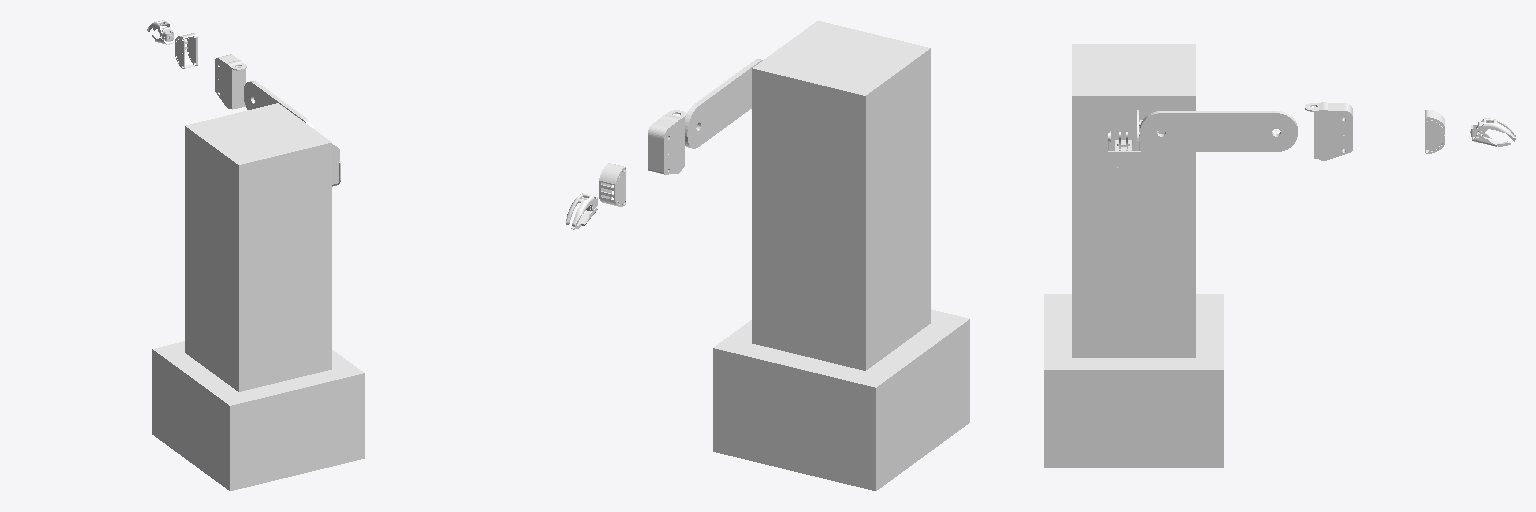
robot.urdf — robot:
<?xml version="1.0" ?>
<!-- =================================================================================== -->
<!-- |    This document was autogenerated by xacro from robot.urdf.xacro               | -->
<!-- |    EDITING THIS FILE BY HAND IS NOT RECOMMENDED                                 | -->
<!-- =================================================================================== -->
<robot name="robot" xmlns:xacro="http://www.ros.org/wiki/xacro">
  <!--<xacro:property name="lower_arm_short_length" value="0.345" /> -->
  <!--X Y-->
  <!-- theirs ours-->
  <!--Z X-->
  <!--Y Z-->
  <link name="base_link">
    <visual>
      <origin rpy="0 0 0" xyz="0 0 0.189085"/>
      <geometry>
        <box size="0.62265 0.62265 0.37817"/>
      </geometry>
      <material name="white">
        <color rgba="1 1 1 1"/>
      </material>
    </visual>
    <collision>
      <origin rpy="0 0 0" xyz="0 0 0.189085"/>
      <geometry>
        <box size="0.62265 0.62265 0.37817"/>
      </geometry>
    </collision>
    <inertial>
      <mass value="0.22"/>
      <inertia ixx="0.00972960214233" ixy="0.0" ixz="0.0" iyy="0.014215410825" iyz="0.0" izz="0.00972960214233"/>
    </inertial>
  </link>
  <link name="body_link">
    <visual>
      <origin rpy="0 0 0" xyz="0 0 0.50159"/>
      <geometry>
        <box size="0.4324 0.4324 1.00318"/>
      </geometry>
      <material name="white">
        <color rgba="1 1 1 1"/>
      </material>
    </visual>
    <collision>
      <origin rpy="0 0 0" xyz="0 0 0.50159"/>
      <geometry>
        <box size="0.4324 0.4324 1.00318"/>
      </geometry>
    </collision>
    <inertial>
      <mass value="0.22"/>
      <inertia ixx="0.0218778976607" ixy="0.0" ixz="0.0" iyy="0.00685555786667" iyz="0.0" izz="0.0218778976607"/>
    </inertial>
  </link>
  <link name="shoulder_link">
    <visual>
      <origin rpy="1.570795 0 1.570795" xyz="0 -0.035 -0.11"/>
      <geometry>
        <mesh filename="package://talos_description/meshes/shoulder_link.stl" scale="0.001 0.001 0.001"/>
      </geometry>
      <material name="white">
        <color rgba="1 1 1 1"/>
      </material>
    </visual>
    <collision>
      <origin rpy="0 0 0" xyz="0.053175 0.065 0"/>
      <geometry>
        <box size="0.10635 0.2 0.22"/>
      </geometry>
    </collision>
    <inertial>
      <mass value="0.22"/>
      <inertia ixx="0.00109468924583" ixy="0.0" ixz="0.0" iyy="0.000940689245833" iyz="0.0" izz="0.00162066666667"/>
    </inertial>
  </link>
  <link name="upper_arm_link">
    <visual>
      <origin rpy="0 0 1.570795" xyz="0.01 -0.075 -0.075"/>
      <geometry>
        <mesh filename="package://talos_description/meshes/upper_arm_link.stl" scale="0.001 0.001 0.001"/>
      </geometry>
      <material name="white">
        <color rgba="1 1 1 1"/>
      </material>
    </visual>
    <collision>
      <origin rpy="0 0 0" xyz="0 0.2 0"/>
      <geometry>
        <box size="0.02 0.55 0.15"/>
      </geometry>
    </collision>
    <inertial>
      <mass value="0.22"/>
      <inertia ixx="0.000419833333333" ixy="0.0" ixz="0.0" iyy="0.00555316666667" iyz="0.0" izz="0.00595833333333"/>
    </inertial>
  </link>
  <link name="elbow_bracket_link">
    <visual>
      <origin rpy="0 0 1.570795" xyz="0.03255 0 -0.10365"/>
      <geometry>
        <mesh filename="package://talos_description/meshes/elbow_bracket_link.stl" scale="0.001 0.001 0.001"/>
      </geometry>
      <material name="white">
        <color rgba="1 1 1 1"/>
      </material>
    </visual>
    <collision>
      <origin rpy="0 0 0" xyz="0 0.0755 0"/>
      <geometry>
        <box size="0.0651 0.151 0.2073"/>
      </geometry>
    </collision>
    <inertial>
      <mass value="0.22"/>
      <inertia ixx="0.0008655405" ixy="0.0" ixz="0.0" iyy="0.000495715183333" iyz="0.0" izz="0.00120586198333"/>
    </inertial>
  </link>
  <link name="elbow_block_link">
    <visual>
      <origin rpy="-1.570795 0 -1.570795" xyz="-0.03176 0.13672 0.097465"/>
      <!--${elbow_bracket_short_length} ${-elbow_block_height/2}-->
      <geometry>
        <mesh filename="package://talos_description/meshes/elbow_block_link.stl" scale="0.001 0.001 0.001"/>
      </geometry>
      <material name="white">
        <color rgba="1 1 1 1"/>
      </material>
    </visual>
    <collision>
      <origin rpy="0 0 0" xyz="0 0.05261 0"/>
      <geometry>
        <box size="0.06352 0.16822 0.19493"/>
      </geometry>
    </collision>
    <inertial>
      <mass value="0.22"/>
      <inertia ixx="0.000770595747167" ixy="0.0" ixz="0.0" iyy="0.000592767244667" iyz="0.0" izz="0.00121542067717"/>
    </inertial>
  </link>
  <link name="lower_arm_link">
    <visual>
      <origin rpy="-1.570795 0 -1.570795" xyz="-0.015 0.304 0.07"/>
      <geometry>
        <mesh filename="package://talos_description/meshes/lower_arm_link.stl" scale="0.001 0.001 0.001"/>
      </geometry>
      <material name="white">
        <color rgba="1 1 1 1"/>
      </material>
    </visual>
    <collision>
      <origin rpy="0 0 0" xyz="0 0.119 0"/>
      <geometry>
        <box size="0.03 0.37 0.14"/>
      </geometry>
    </collision>
    <inertial>
      <mass value="0.22"/>
      <inertia ixx="0.000375833333333" ixy="0.0" ixz="0.0" iyy="0.00252633333333" iyz="0.0" izz="0.00286916666667"/>
    </inertial>
  </link>
  <link name="wrist_link">
    <visual>
      <origin rpy="-1.570795 0 -1.570795" xyz="-0.03175 0.06388 0.07"/>
      <geometry>
        <mesh filename="package://talos_description/meshes/wrist_link.stl" scale="0.001 0.001 0.001"/>
      </geometry>
      <material name="white">
        <color rgba="1 1 1 1"/>
      </material>
    </visual>
    <collision>
      <origin rpy="0 0 0" xyz="0 0.02769 0"/>
      <geometry>
        <box size="0.0635 0.07238 0.14"/>
      </geometry>
    </collision>
    <inertial>
      <mass value="0.22"/>
      <inertia ixx="0.000433257916667" ixy="0.0" ixz="0.0" iyy="0.000169970430667" iyz="0.0" izz="0.000455379180667"/>
    </inertial>
  </link>
  <link name="grasper_base_link">
    <visual>
      <origin rpy="0 0 0" xyz="-0.04445 0 -0.04445"/>
      <geometry>
        <mesh filename="package://talos_description/meshes/grasper_base_link.stl" scale="0.001 0.001 0.001"/>
      </geometry>
      <material name="white">
        <color rgba="1 1 1 1"/>
      </material>
    </visual>
    <collision>
      <origin rpy="0 0 0" xyz="0 0.04158 -0.04445"/>
      <geometry>
        <box size="0.0889 0.08316 0.0889"/>
      </geometry>
    </collision>
    <inertial>
      <mass value="0.22"/>
      <inertia ixx="0.000289784366667" ixy="0.0" ixz="0.0" iyy="0.000271677919333" iyz="0.0" izz="0.000271677919333"/>
    </inertial>
  </link>
  <link name="stationary_claw_link">
    <visual>
      <origin rpy="0 -1.570795 0" xyz="0.021415 0 -0.0555625"/>
      <geometry>
        <mesh filename="package://talos_description/meshes/stationary_claw_link.stl" scale="0.001 0.001 0.001"/>
      </geometry>
      <material name="white">
        <color rgba="1 1 1 1"/>
      </material>
    </visual>
    <collision>
      <origin rpy="0 0 0" xyz="0 0.072645 0"/>
      <geometry>
        <box size="0.04283 0.14529 0.0862"/>
        <!-- will probably need a better collision element-->
      </geometry>
    </collision>
    <inertial>
      <mass value="0.22"/>
      <inertia ixx="0.000169855563167" ixy="0.0" ixz="0.0" iyy="0.000420632538333" iyz="0.0" izz="0.000523226441833"/>
    </inertial>
  </link>
  <link name="movable_claw_link">
    <visual>
      <origin rpy="0 3.14159 0" xyz="0.028035 -0.01 0.025"/>
      <geometry>
        <mesh filename="package://talos_description/meshes/movable_claw_link.stl" scale="0.001 0.001 0.001"/>
      </geometry>
      <material name="white">
        <color rgba="1 1 1 1"/>
      </material>
    </visual>
    <collision>
      <origin rpy="0 0 0" xyz="0 0.02769 0"/>
      <geometry>
        <box size="0.0635 0.07238 0.14"/>
      </geometry>
    </collision>
    <inertial>
      <mass value="0.22"/>
      <inertia ixx="0.000433257916667" ixy="0.0" ixz="0.0" iyy="0.000169970430667" iyz="0.0" izz="0.000455379180667"/>
    </inertial>
  </link>
  <joint name="base_to_body" type="revolute">
    <limit effort="1000.0" lower="-3.14159" upper="3.14159" velocity="1.0"/>
    <axis xyz="0 0 1"/>
    <parent link="base_link"/>
    <child link="body_link"/>
    <origin rpy="0 0 0" xyz="0 0 0.37817"/>
  </joint>
  <joint name="body_to_shoulder" type="revolute">
    <limit effort="1000.0" lower="-1.570795" upper="0" velocity="1.0"/>
    <axis xyz="0 0 1"/>
    <parent link="body_link"/>
    <child link="shoulder_link"/>
    <origin rpy="0 0 0" xyz="0.2162 0 0.89318"/>
  </joint>
  <joint name="shoulder_to_upper_arm" type="revolute">
    <limit effort="1000.0" lower="-0.7853975" upper="0.7853975" velocity="1.0"/>
    <axis xyz="1 0 0"/>
    <parent link="shoulder_link"/>
    <child link="upper_arm_link"/>
    <origin rpy="0 0 0" xyz="0.053175 0.095 0"/>
  </joint>
  <joint name="upper_arm_to_elbow_bracket" type="revolute">
    <limit effort="1000.0" lower="-0.7853975" upper="0.7853975" velocity="1.0"/>
    <axis xyz="1 0 0"/>
    <parent link="upper_arm_link"/>
    <child link="elbow_bracket_link"/>
    <origin rpy="0 0 0" xyz="0 0.4 0"/>
  </joint>
  <joint name="elbow_bracket_to_elbow_block" type="revolute">
    <limit effort="1000.0" lower="-0.7853975" upper="0.7853975" velocity="1.0"/>
    <axis xyz="0 0 1"/>
    <parent link="elbow_bracket_link"/>
    <child link="elbow_block_link"/>
    <origin rpy="0 0 0" xyz="0 0.129 0"/>
  </joint>
  <joint name="elbow_block_to_lower_arm" type="revolute">
    <limit effort="1000.0" lower="-0.7853975" upper="0.7853975" velocity="1.0"/>
    <axis xyz="1 0 0"/>
    <parent link="elbow_block_link"/>
    <child link="lower_arm_link"/>
    <origin rpy="0 0 0" xyz="0 0.106 0"/>
  </joint>
  <joint name="lower_arm_to_wrist" type="revolute">
    <limit effort="1000.0" lower="-0.7853975" upper="0.7853975" velocity="1.0"/>
    <axis xyz="1 0 0"/>
    <parent link="lower_arm_link"/>
    <child link="wrist_link"/>
    <origin rpy="0 0 0" xyz="0 0.289 0"/>
  </joint>
  <joint name="wrist_to_grasper_base" type="revolute">
    <limit effort="1000.0" lower="-3.14159" upper="3.14159" velocity="1.0"/>
    <axis xyz="0 1 0"/>
    <parent link="wrist_link"/>
    <child link="grasper_base_link"/>
    <origin rpy="0 0 0" xyz="0 0.06388 0"/>
  </joint>
  <joint name="grasper_base_to_stationary_claw" type="fixed">
    <parent link="grasper_base_link"/>
    <child link="stationary_claw_link"/>
    <origin rpy="0 0 0" xyz="0 0.08316 0"/>
  </joint>
  <joint name="stationary_claw_to_movable_claw" type="revolute">
    <limit effort="1000.0" lower="-0.224399285714" upper="0.7853975" velocity="1.0"/>
    <axis xyz="1 0 0"/>
    <parent link="stationary_claw_link"/>
    <child link="movable_claw_link"/>
    <origin rpy="0 0 0" xyz="0 0.041 0.018"/>
  </joint>
</robot>

--- What the picture shows (computed from the rendered views, not written in the file) ---
The picture shows the robot from 3 angles, left to right: view 1: azimuth 30°, elevation 25°; view 2: azimuth 150°, elevation 25°; view 3: azimuth 270°, elevation 25°; orthographic projection.
Robot: robot — 11 links, 10 joints (9 revolute, 1 fixed); root link base_link; default pose: every joint at zero.
Links seen in each view (by area): view 1: body_link, base_link, elbow_block_link, upper_arm_link, wrist_link; view 2: body_link, base_link, upper_arm_link, elbow_block_link, wrist_link; view 3: body_link, base_link, upper_arm_link, elbow_block_link, shoulder_link, wrist_link.
Link boxes in pixels (x1,y1,x2,y2): body_link: (185,103,331,391); base_link: (152,341,364,490); elbow_block_link: (215,54,246,109); upper_arm_link: (244,81,313,128); wrist_link: (175,33,197,68); body_link: (752,21,930,370); base_link: (713,309,969,490); upper_arm_link: (685,59,762,148); elbow_block_link: (648,110,685,174); wrist_link: (599,163,625,206); body_link: (1072,44,1195,357); base_link: (1044,294,1223,467); upper_arm_link: (1140,111,1297,151); elbow_block_link: (1305,102,1352,160); shoulder_link: (1107,110,1163,183); wrist_link: (1425,110,1444,153).
Bounding box of the posed robot: 0.6389 × 1.64 × 1.38 m (x, y, z).
Meshes: 9 distinct files referenced, 6 mesh visuals loaded (6 binary STL); not drawn: 3 (reference not matched to a file when rendering).